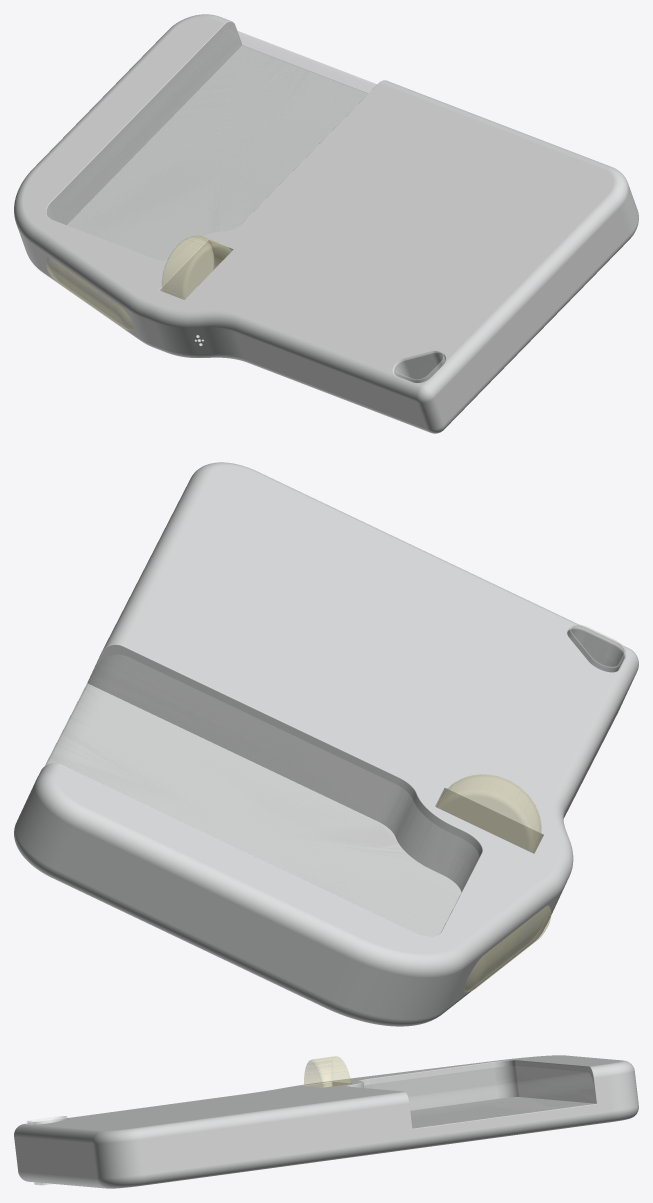
The model's file is liam_smell_device.glb.
The picture shows the model from 3 angles, top to bottom: view 1: azimuth 30°, elevation 25°; view 2: azimuth 150°, elevation 25°; view 3: azimuth 270°, elevation 25°; orthographic projection. The views are drawn at different scales.
Parts seen in each view (by area): view 1: SmellNuts (×5); view 2: SmellNuts (×5); view 3: SmellNuts (×4).
Part boxes in pixels (x1,y1,x2,y2): SmellNuts (×5): [14, 14, 638, 433]; SmellNuts (×5): [14, 462, 638, 1026]; SmellNuts (×4): [14, 1055, 638, 1188].
Bounding box in the file's own units: 0.0954 × 0.0394 × 0.1362.
